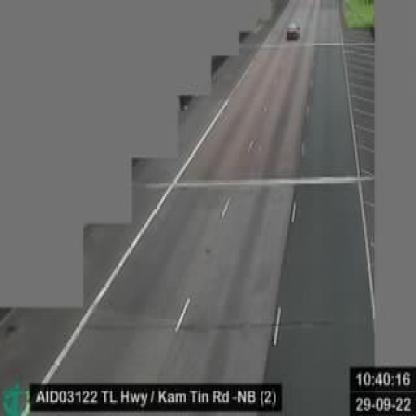Car: (284, 17, 302, 45)
